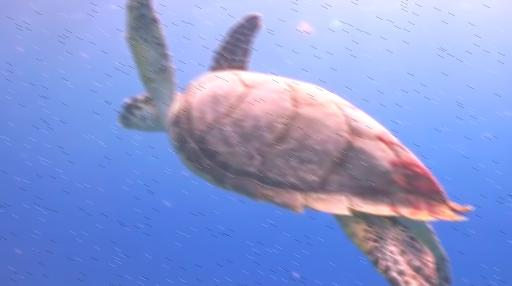Fish: (121, 0, 472, 285)
